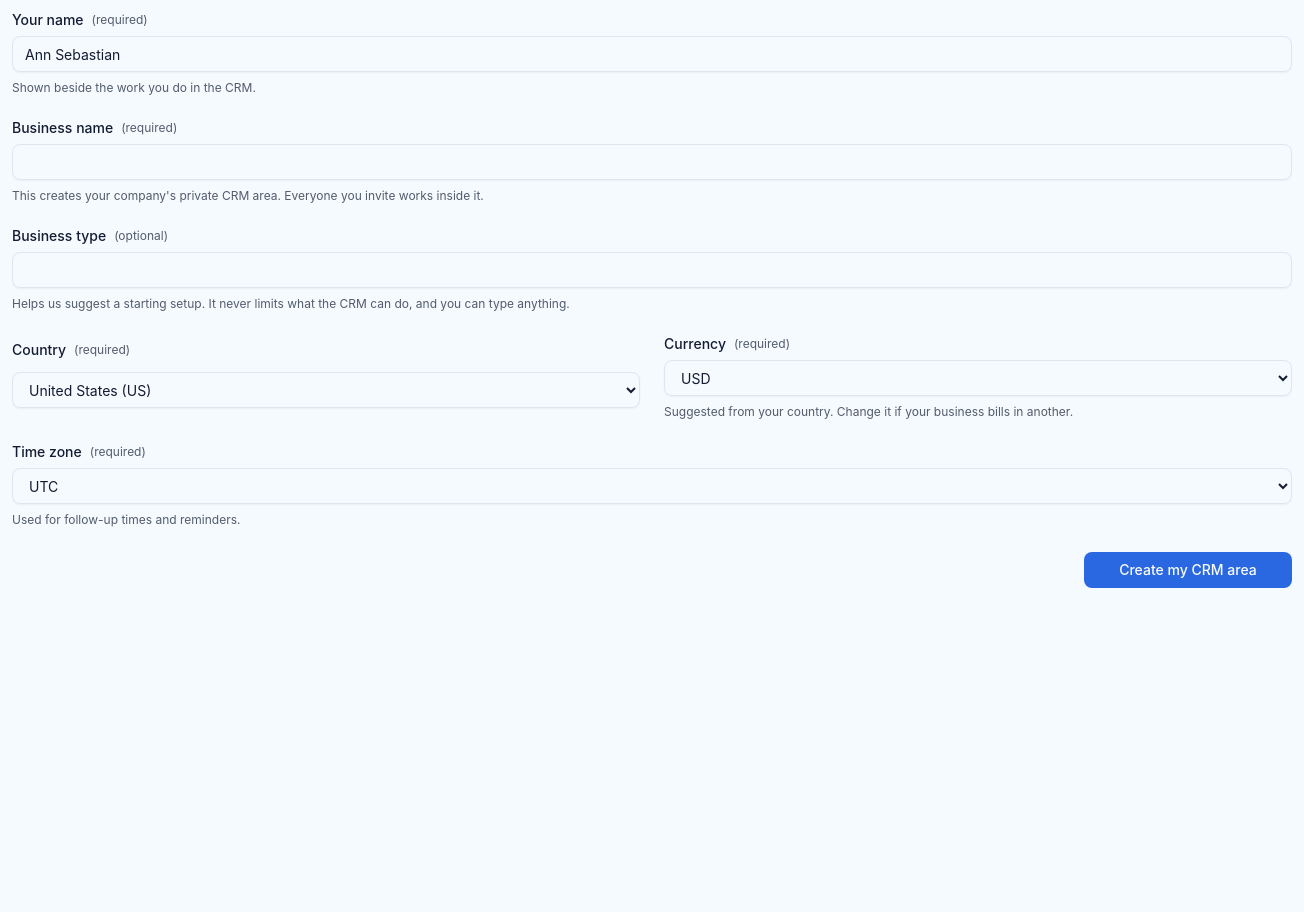
validation feedback › 16. announces the form-level error and takes focus to it
Click the button "Create my CRM area" at x=1188, y=570, box [1084,552,1292,588]
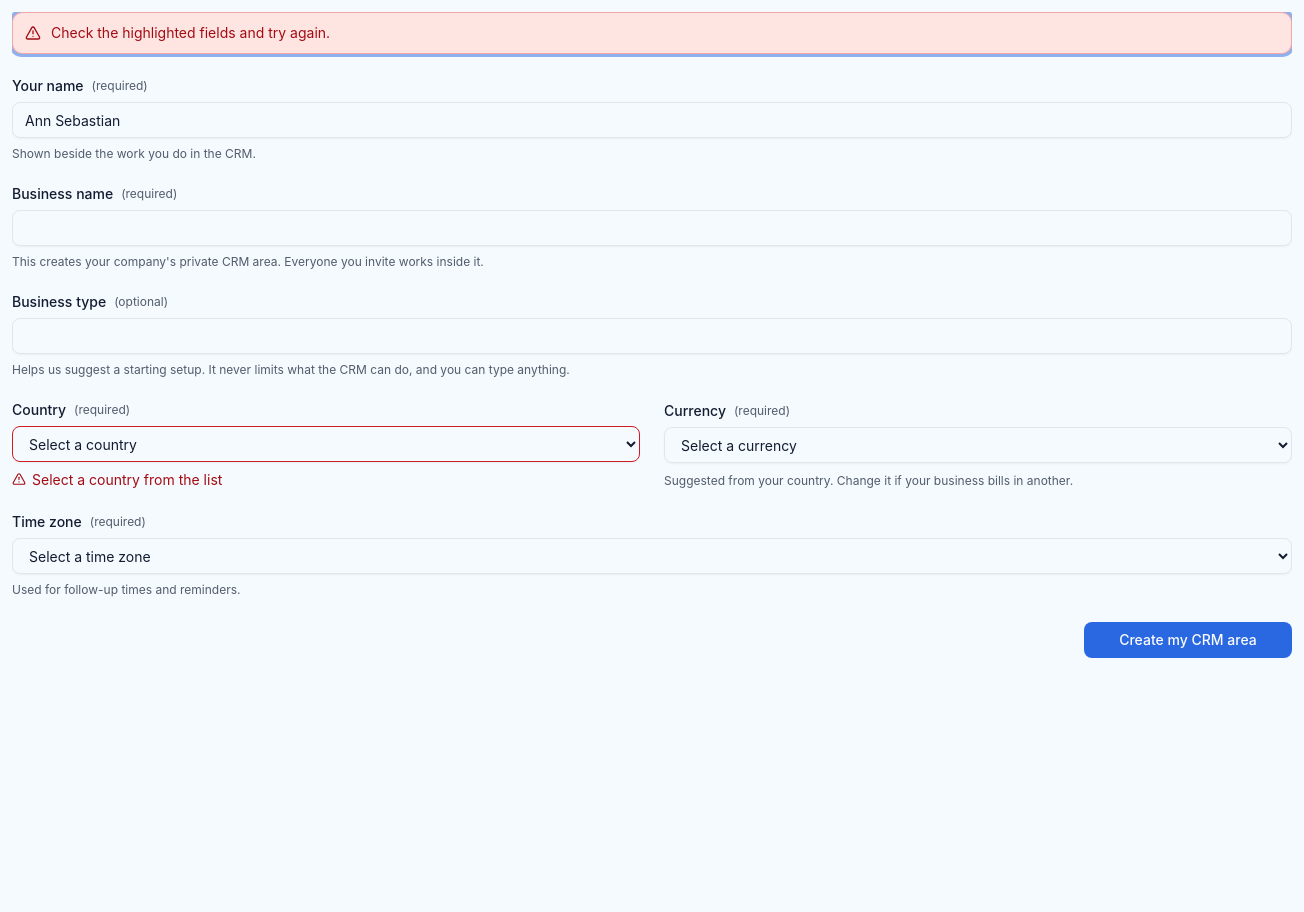
Check: the message shows "Check the highlighted fields", box [51,24,330,41]
